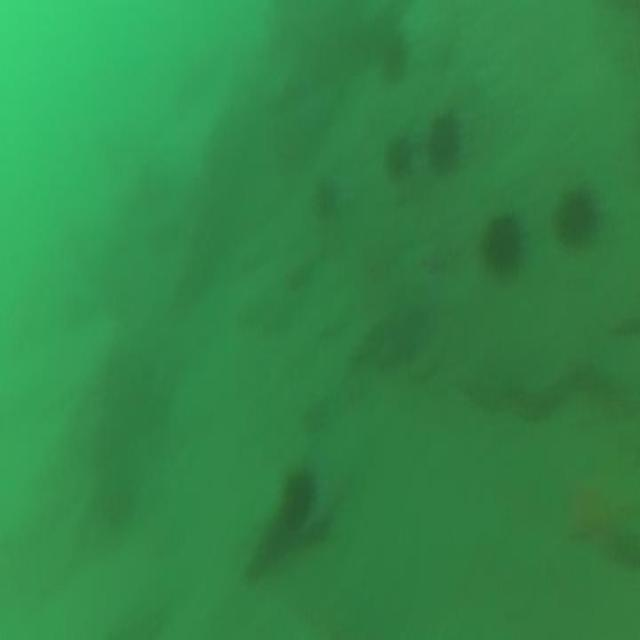echinus: (550, 183, 604, 261), (479, 202, 529, 284), (276, 455, 320, 531), (426, 109, 466, 179), (383, 125, 413, 188), (378, 24, 408, 87)
